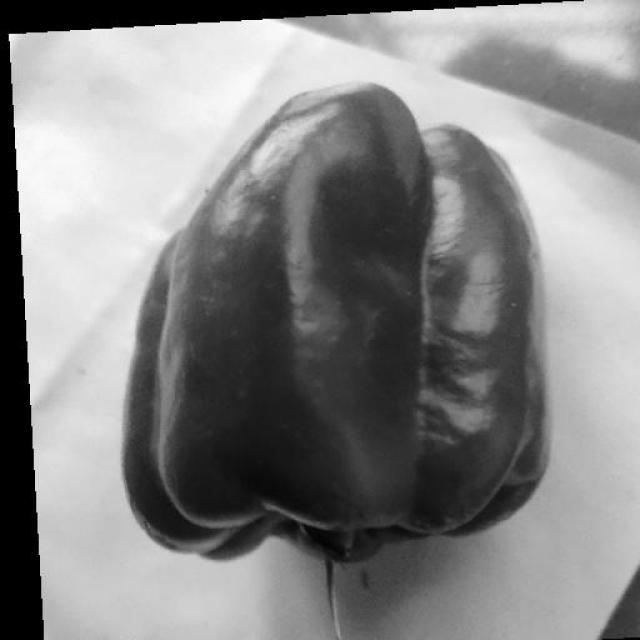Stale_Capsicum: (122, 96, 530, 527)
